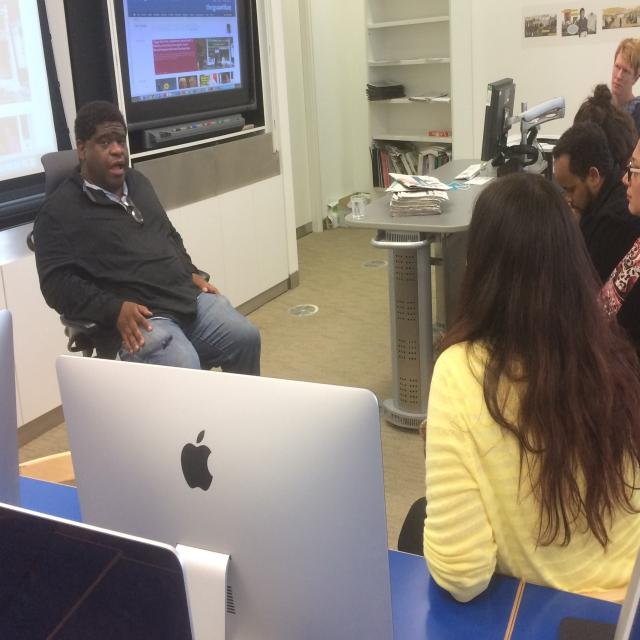body: (396, 168, 640, 606), (24, 97, 271, 509), (551, 119, 640, 369), (550, 118, 639, 284), (146, 19, 244, 94), (520, 7, 640, 38), (608, 36, 640, 140)
